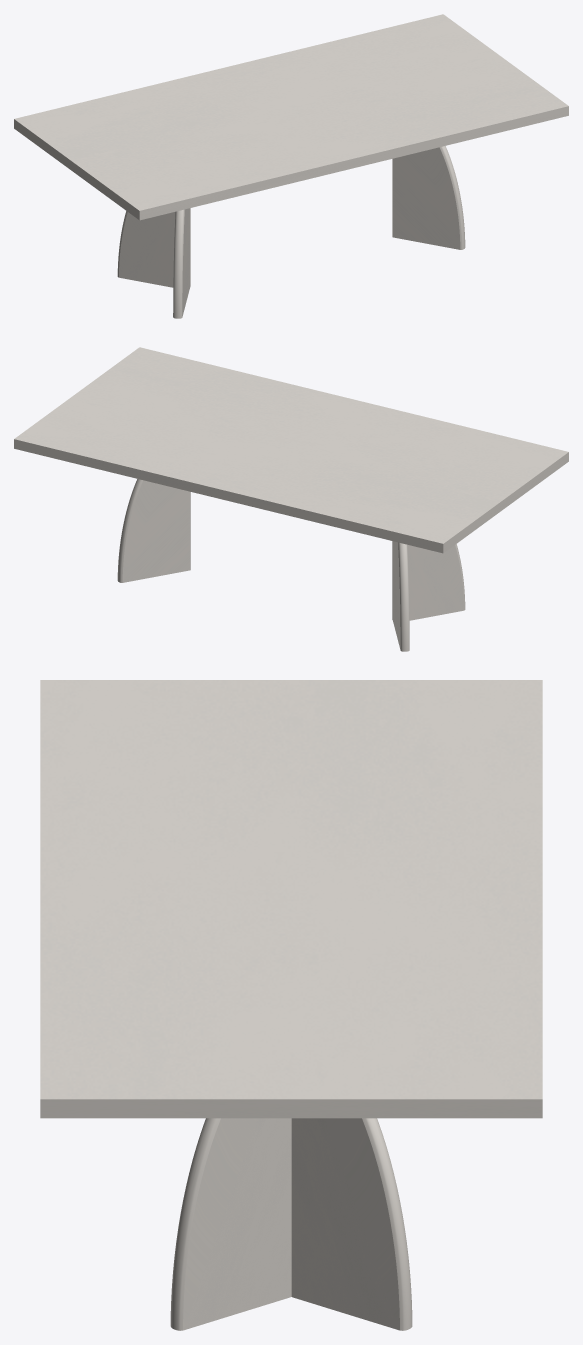
File: pearlwhite_recta_standard_newtable2.glb
3 renders of one model, top to bottom at view 1: azimuth 30°, elevation 25°; view 2: azimuth 150°, elevation 25°; view 3: azimuth 270°, elevation 25°, orthographic. The views are drawn at different scales.
Parts seen in each view (by area): view 1: standard_recta, newtable2_singleright2, newtable2_singleleft1, newtable2_singleright1; view 2: standard_recta, newtable2_singleleft2, newtable2_singleright1, newtable2_singleleft1; view 3: standard_recta, newtable2_singleleft2, newtable2_singleright2.
Part boxes in pixels (left/top/right/bottom): standard_recta: left=14, top=14, right=568, bottom=220; newtable2_singleright2: left=392, top=146, right=465, bottom=249; newtable2_singleleft1: left=117, top=208, right=190, bottom=287; newtable2_singleright1: left=173, top=208, right=190, bottom=318; standard_recta: left=14, top=347, right=568, bottom=553; newtable2_singleleft2: left=117, top=479, right=190, bottom=582; newtable2_singleright1: left=392, top=541, right=465, bottom=620; newtable2_singleleft1: left=392, top=541, right=409, bottom=651; standard_recta: left=40, top=680, right=542, bottom=1118; newtable2_singleleft2: left=291, top=1118, right=412, bottom=1330; newtable2_singleright2: left=170, top=1118, right=291, bottom=1330.
Size of the model in its own units: 7.5 by 2.5 by 3.8.
1 material, 1 textured.
